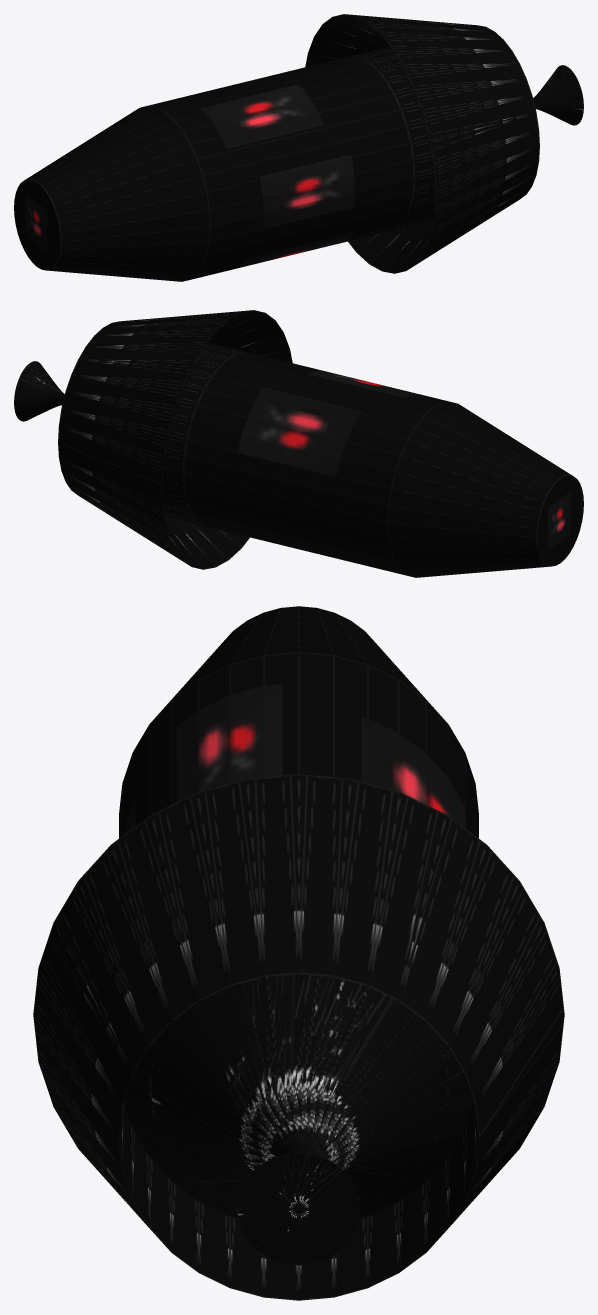
Rendered from ego.obj.
3 views of the same model, one above another, from view 1: azimuth 30°, elevation 25°; view 2: azimuth 150°, elevation 25°; view 3: azimuth 270°, elevation 25° (orthographic). The views are drawn at different scales.
Visible parts, largest first — view 1: Cylinder.001; view 2: Cylinder.001; view 3: Cylinder.001.
Boxes of the visible parts, x1,y1,x2,y2 form: Cylinder.001: (14, 14, 583, 281); Cylinder.001: (14, 310, 583, 577); Cylinder.001: (33, 606, 564, 1300).
Size of the model in its own units: 39.98 by 17.32 by 17.32.
